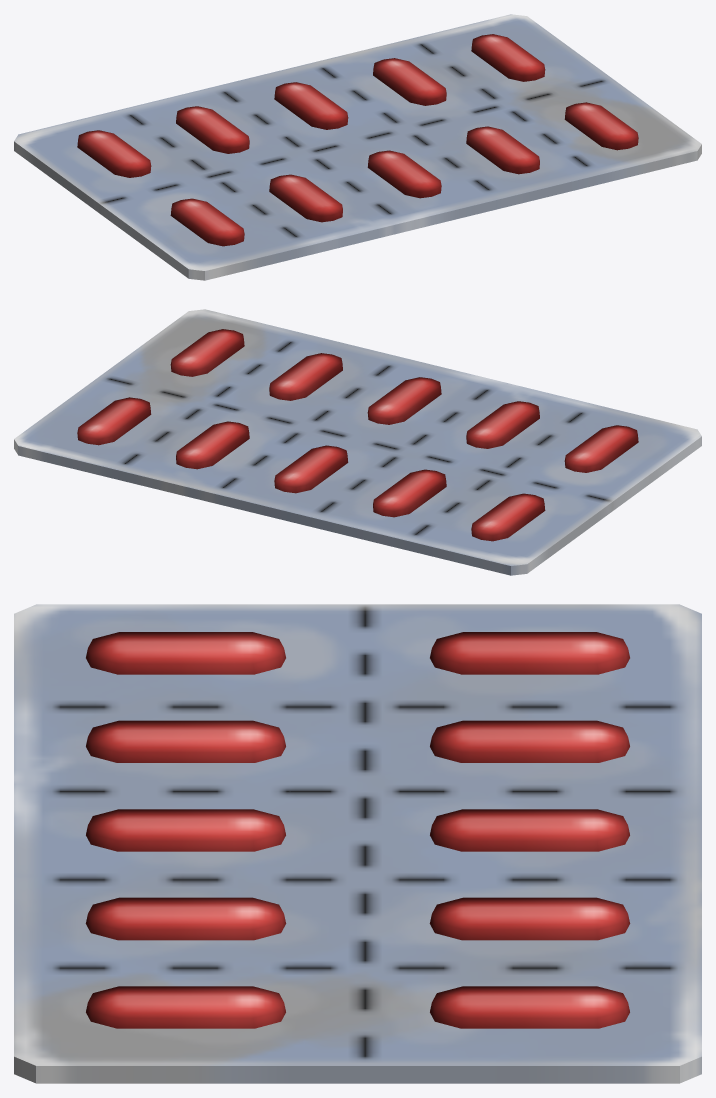
The model's file is ITEM_pill_blisterPack02.fbx.
The picture shows the model from 3 angles, top to bottom: view 1: azimuth 30°, elevation 25°; view 2: azimuth 150°, elevation 25°; view 3: azimuth 270°, elevation 25°; orthographic projection. The views are drawn at different scales.
Visible parts, largest first — view 1: ITEM_pill_blisterPack02; view 2: ITEM_pill_blisterPack02; view 3: ITEM_pill_blisterPack02.
Part boxes in pixels (x1=…): ITEM_pill_blisterPack02: x1=14, y1=14, x2=701, y2=280; ITEM_pill_blisterPack02: x1=14, y1=309, x2=701, y2=575; ITEM_pill_blisterPack02: x1=14, y1=604, x2=701, y2=1083.
Bounding box in the file's own units: 0.1236 × 0.00414 × 0.0779.
